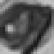correct: (0, 1, 54, 54)
